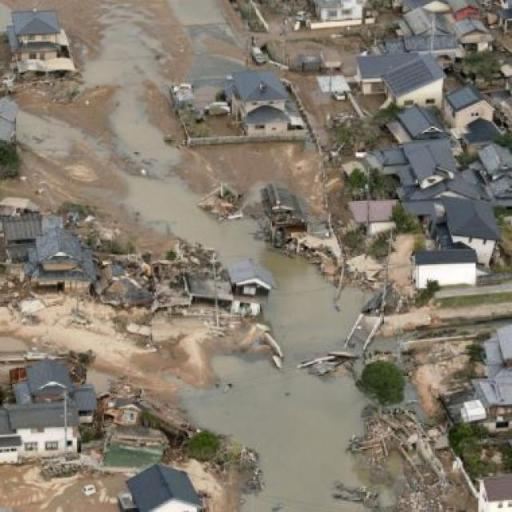flood: (86, 24, 368, 512), (18, 112, 95, 144)
house: (0, 366, 98, 459), (354, 49, 448, 110), (224, 67, 292, 133), (8, 10, 75, 76), (32, 228, 97, 292), (124, 461, 200, 512), (443, 198, 500, 264), (476, 331, 512, 431), (414, 242, 474, 290), (385, 106, 447, 144), (447, 86, 493, 132), (227, 258, 274, 296), (349, 196, 398, 225), (477, 472, 510, 512), (458, 18, 492, 48)
